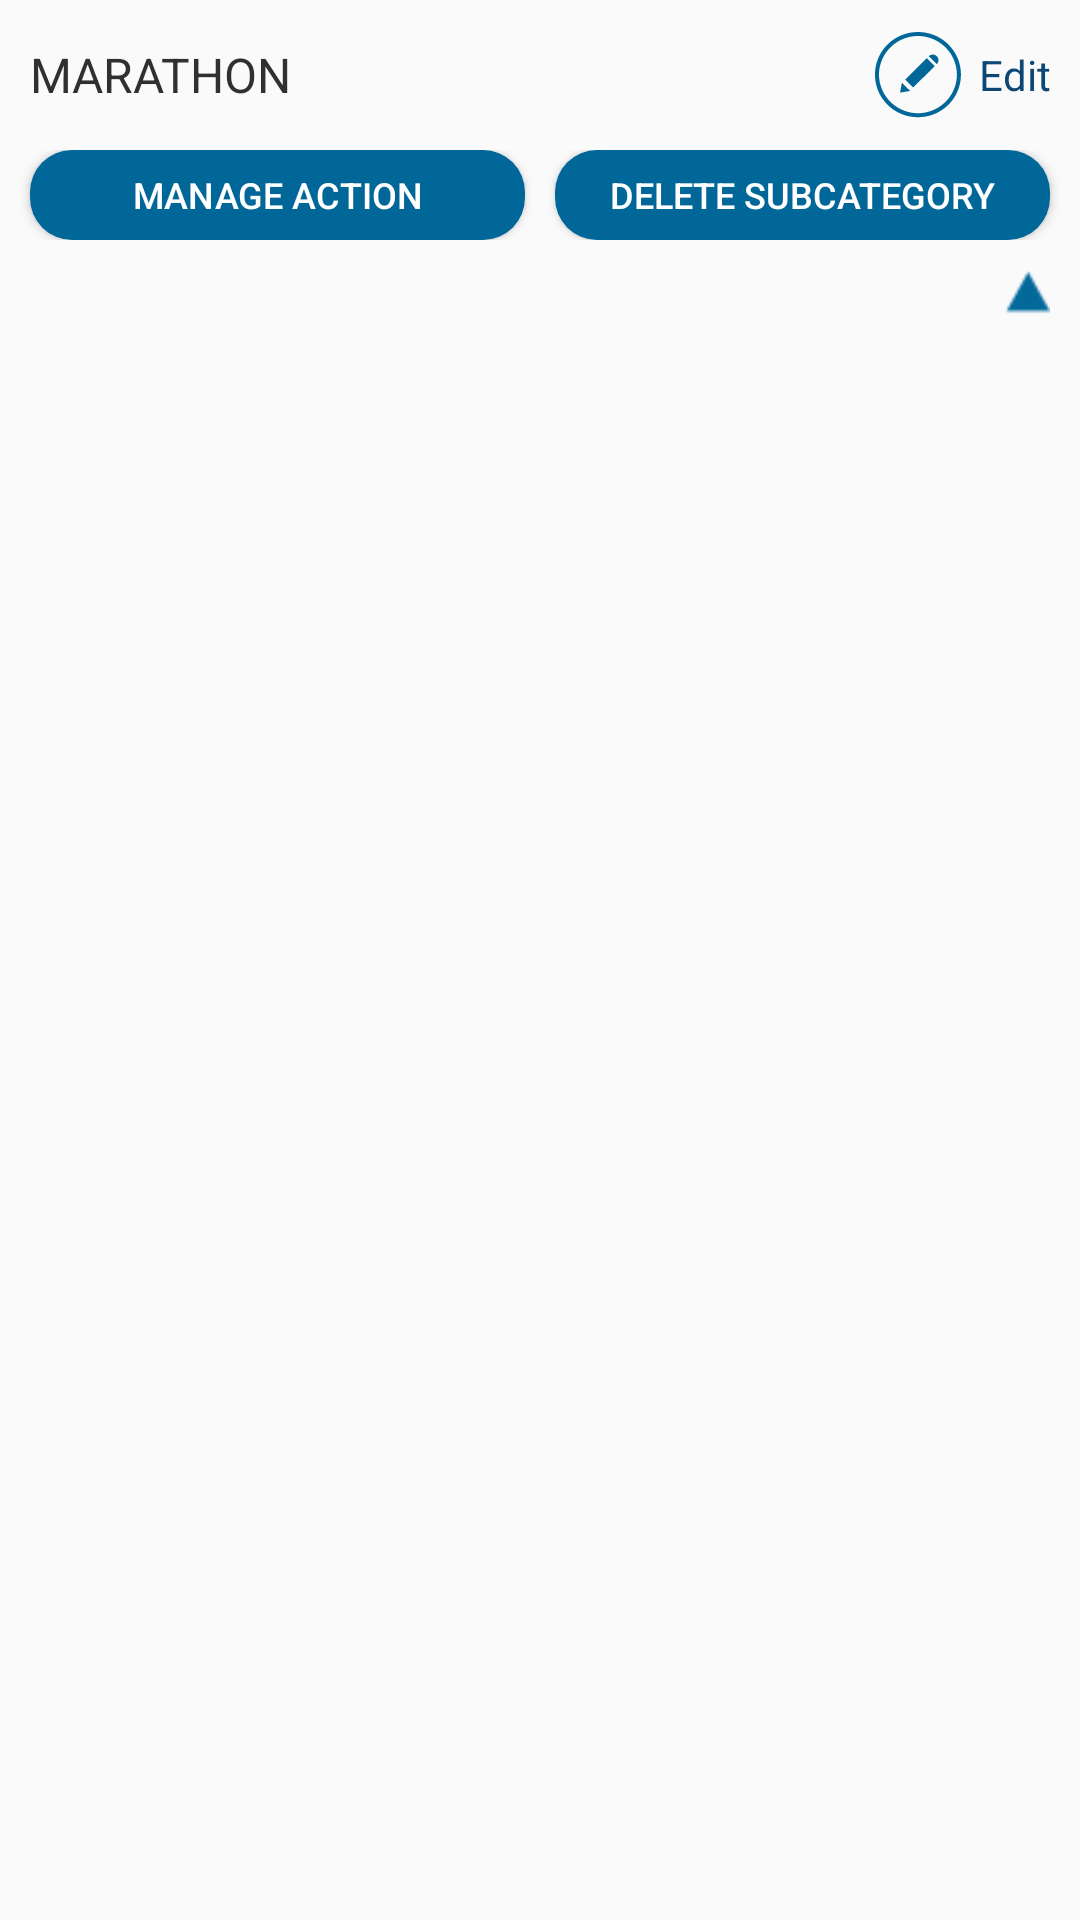

Screen size 1080px x 1920px. Icon name, then its center in pixels as (x,y):
bluearrow up: (1028,292)
